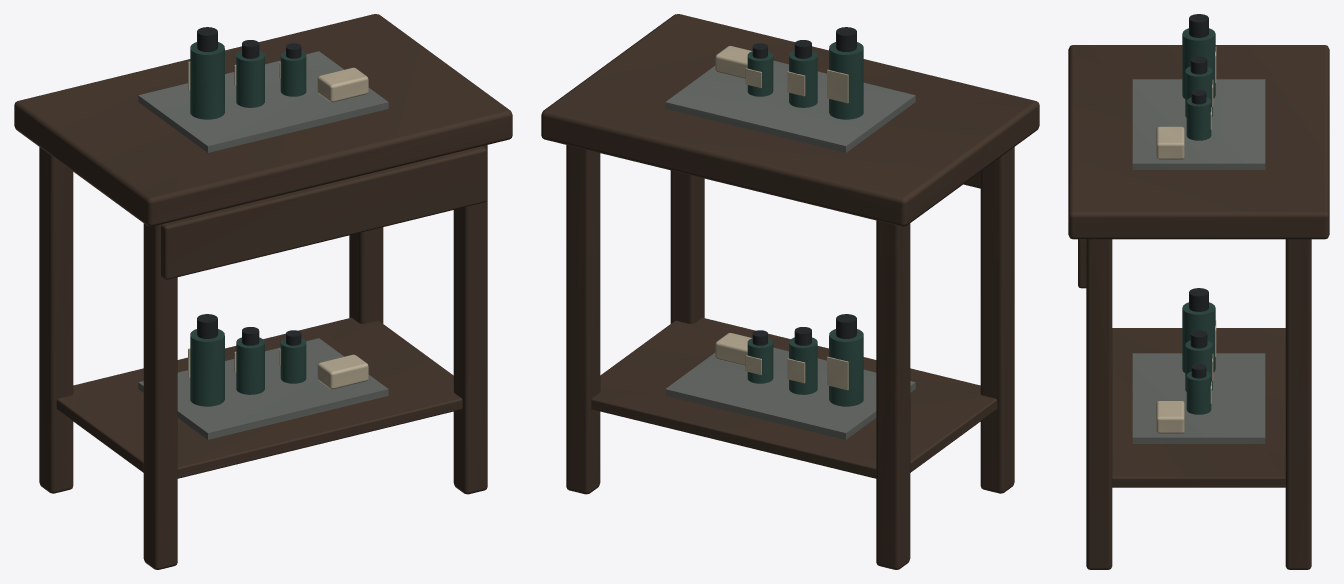
File: prop-medical-cart-v01.glb
The picture shows the model from 3 angles, left to right: view 1: azimuth 30°, elevation 25°; view 2: azimuth 150°, elevation 25°; view 3: azimuth 270°, elevation 25°; orthographic projection. The views are drawn at different scales.
Parts seen in each view (by area): view 1: medical-cart; view 2: medical-cart; view 3: medical-cart.
Boxes of the visible parts, bbox=[...] form: medical-cart: bbox=[14, 14, 512, 569]; medical-cart: bbox=[541, 14, 1039, 569]; medical-cart: bbox=[1068, 14, 1329, 569].
Size of the model in its own units: 0.85 by 1.04 by 0.55.
